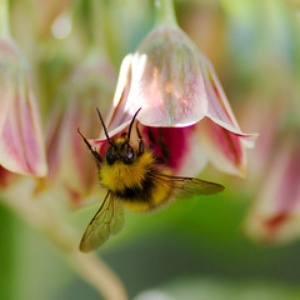bee: (84, 109, 214, 260)
